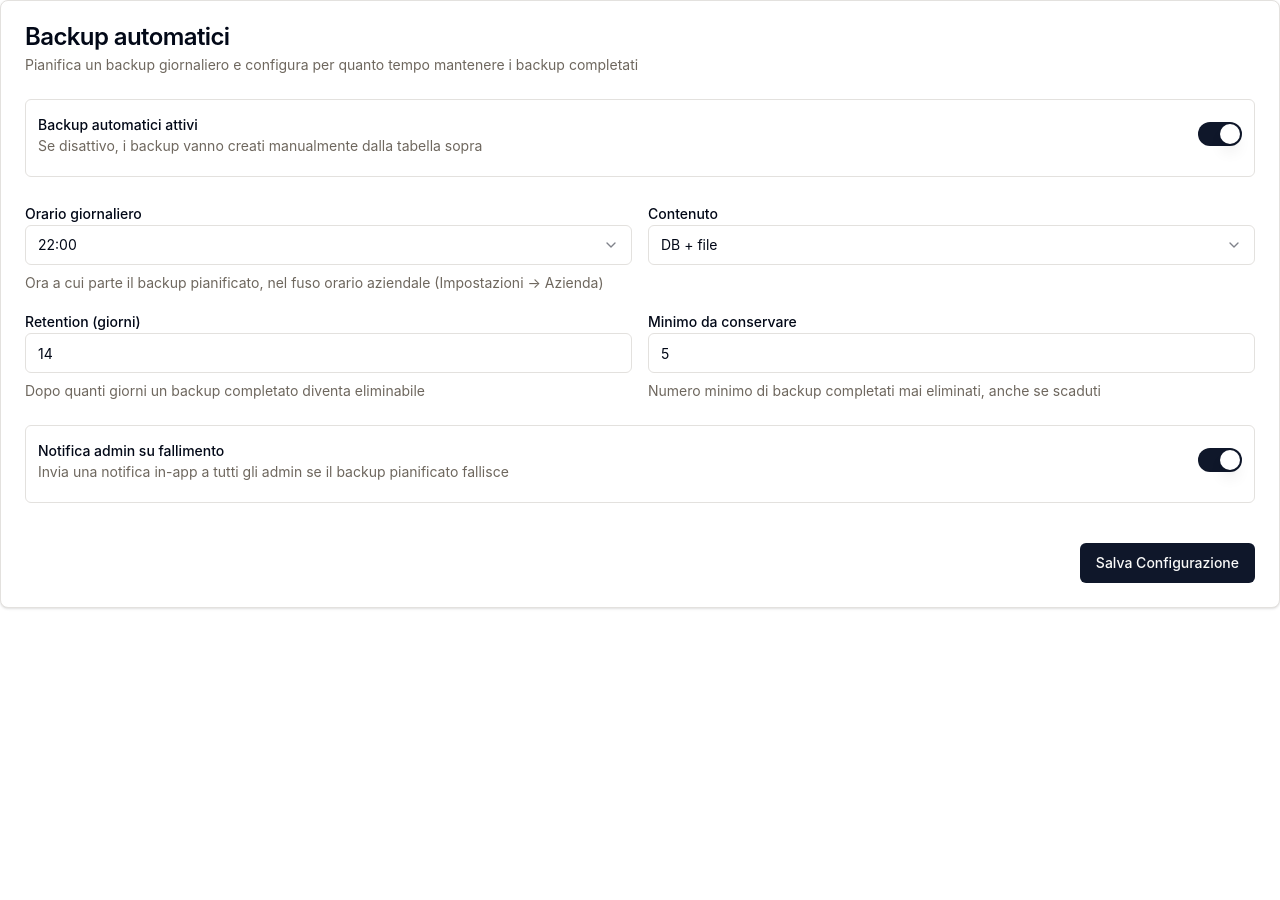
Test: an emptied retention field is refused with a message, not saved as 0
Clear the number field labelled "Minimo da conservare" at (952, 353), box [648,333,1255,373]
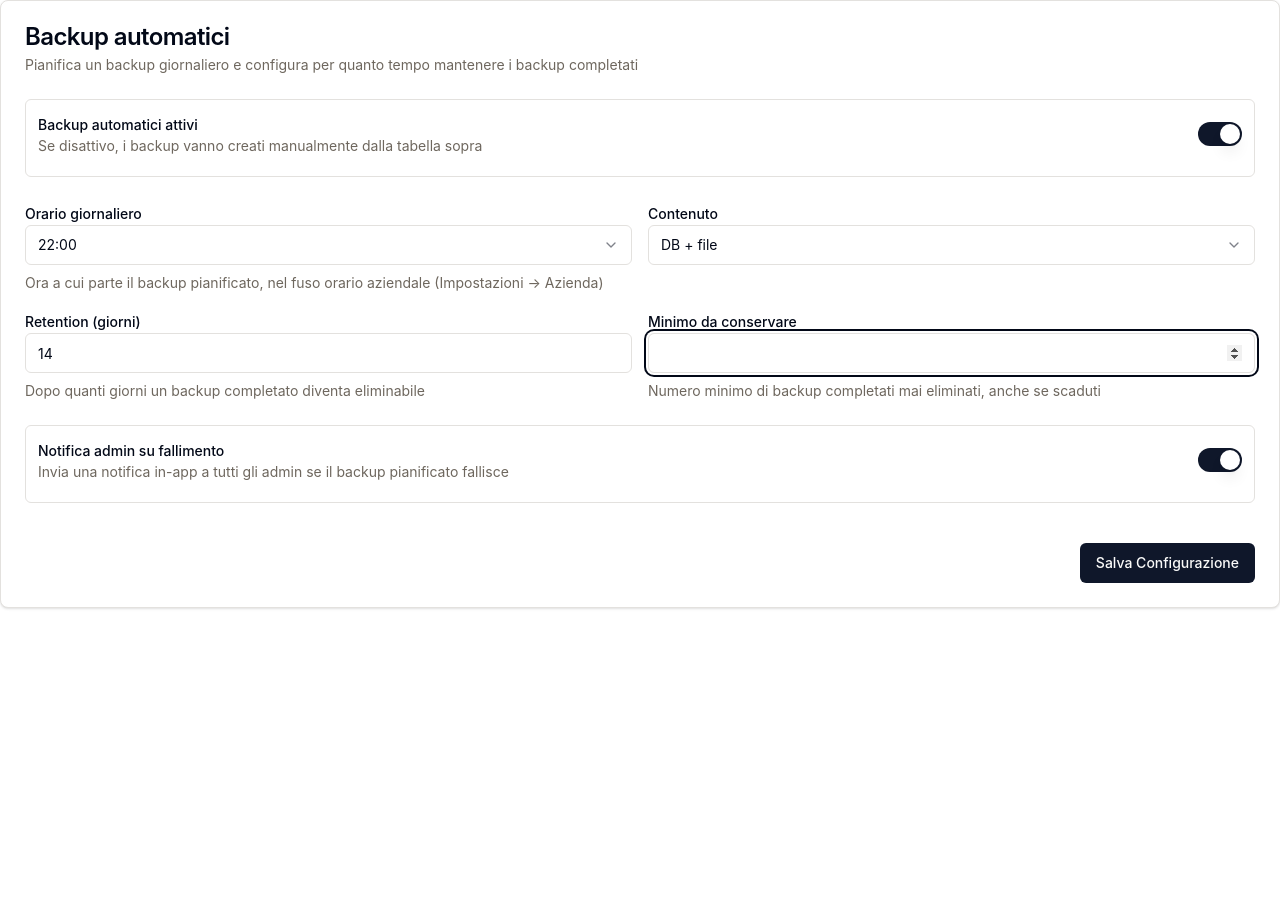
Click the button "Salva Configurazione" at (1167, 563), box [1080,543,1255,583]
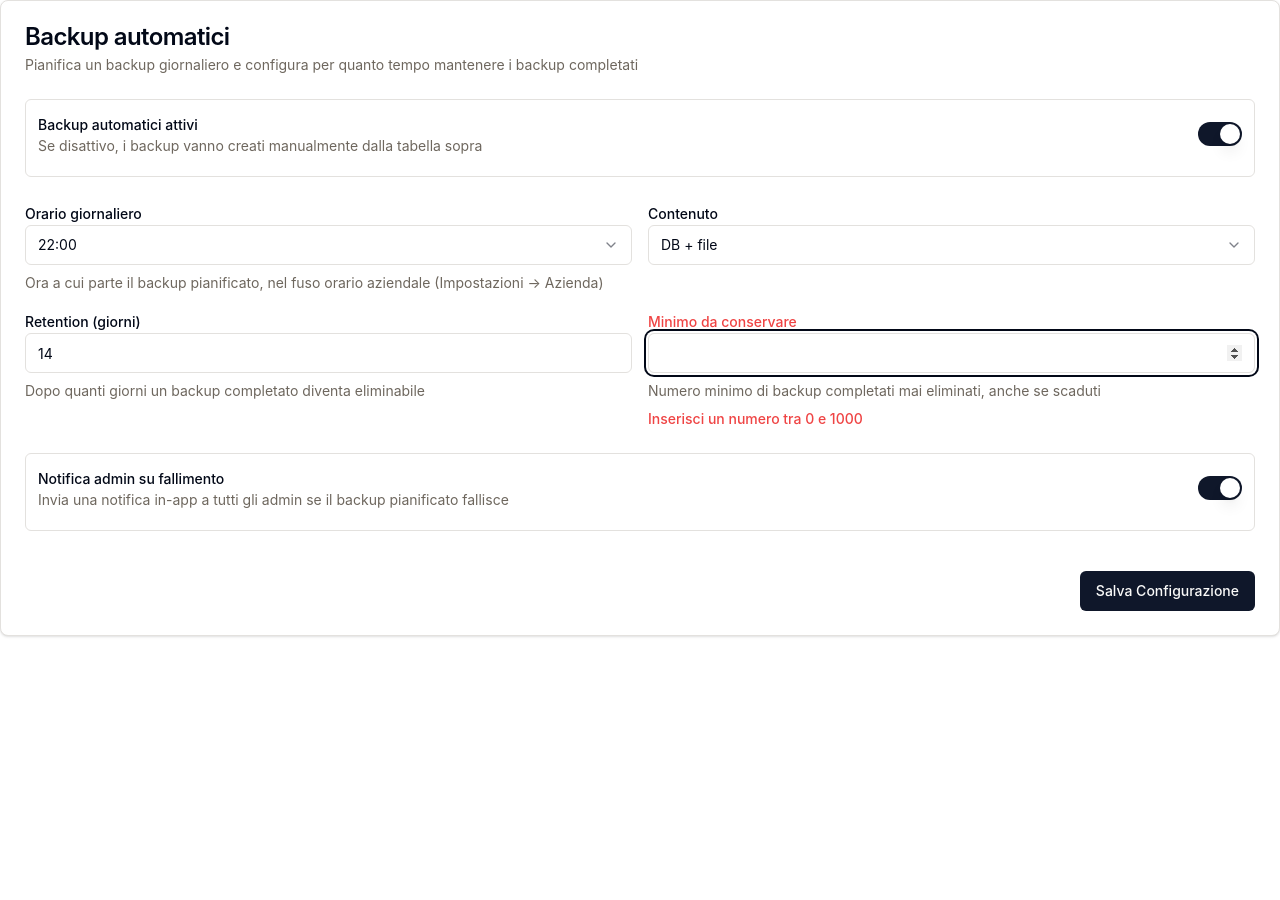
Check: the text "Inserisci un numero tra 0 e 1000" is shown, box [648,410,863,427]
